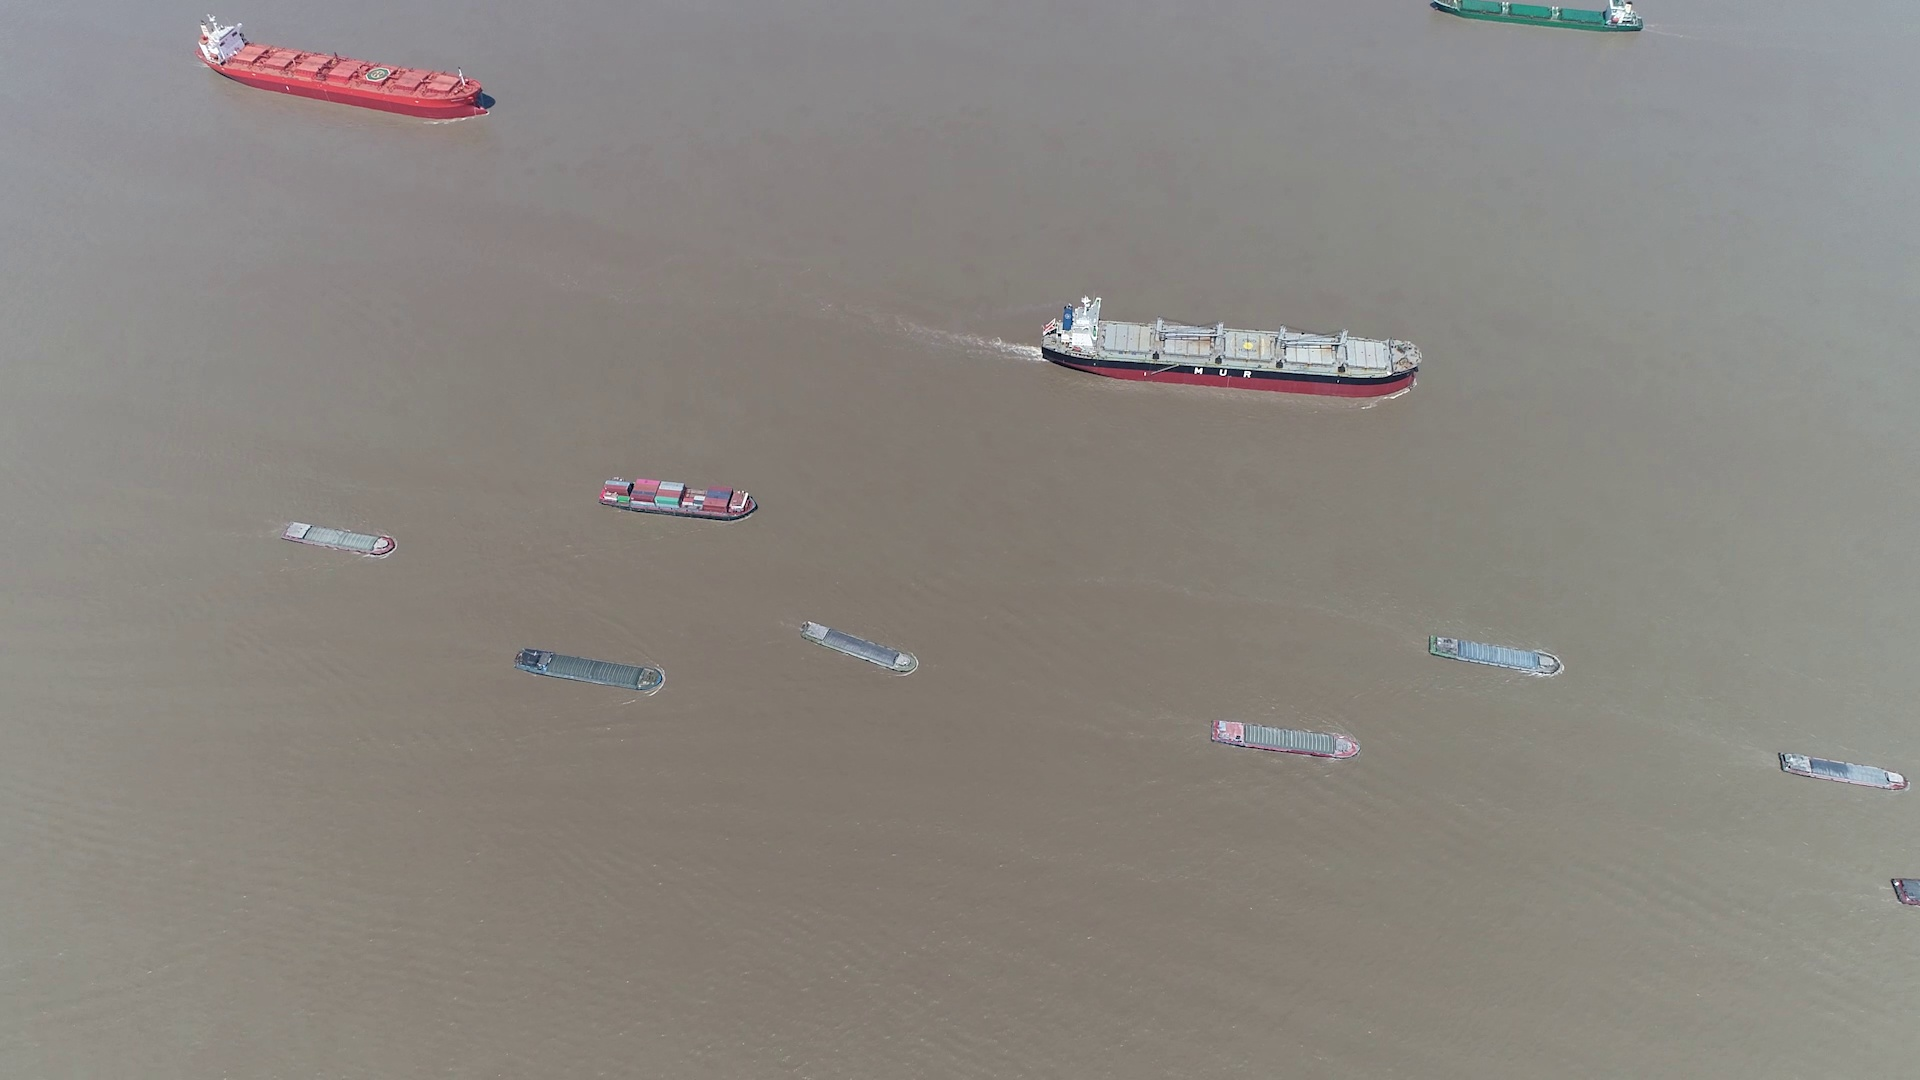ship: (1040, 295, 1422, 397), (199, 18, 492, 119), (1429, 0, 1646, 34), (597, 477, 757, 520), (800, 620, 919, 676), (516, 647, 666, 691), (1211, 719, 1361, 760), (1425, 633, 1561, 676), (1778, 752, 1905, 793), (282, 520, 397, 556), (1891, 878, 1920, 911)
